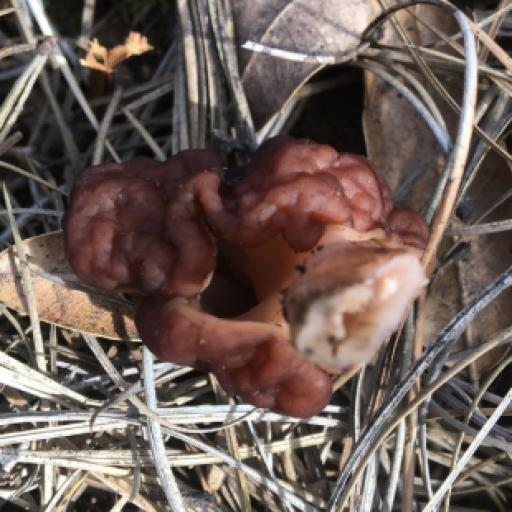mushroom: (20, 47, 463, 450)
